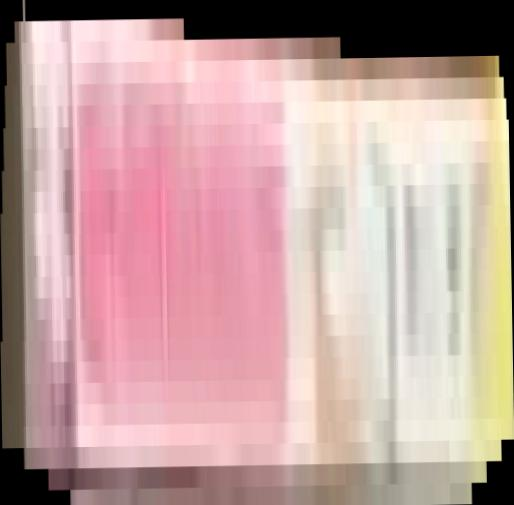flat: (1, 1, 514, 505)
